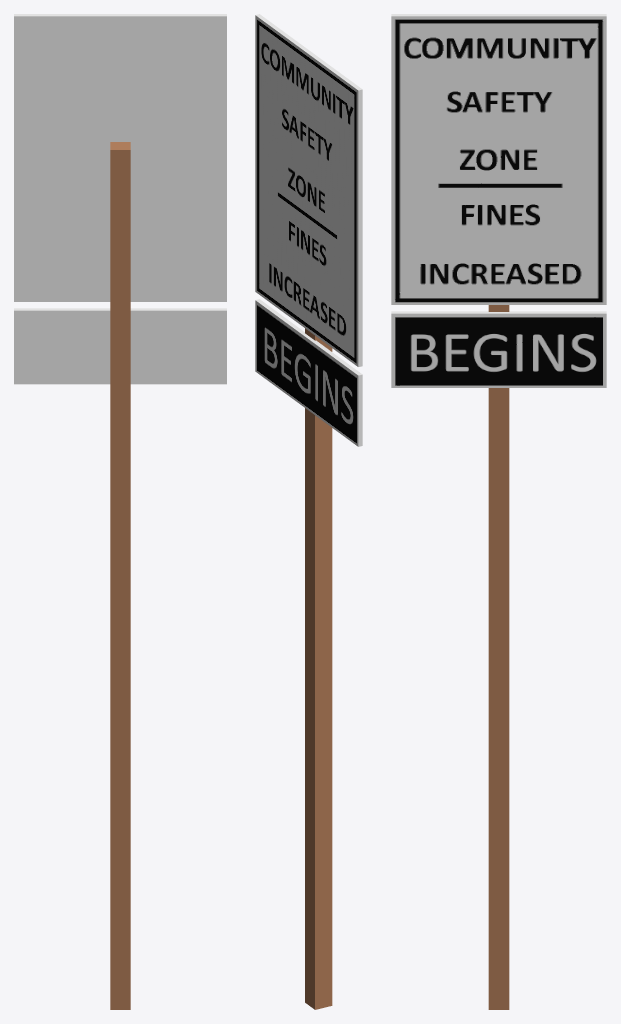
Rendered from sign15.fbx.
3 renders of one model, left to right at view 1: azimuth 90°, elevation 25°; view 2: azimuth 210°, elevation 25°; view 3: azimuth 270°, elevation 25°, orthographic. The views are drawn at different scales.
Parts seen in each view (by area): view 1: Cylinder.003_Cylinder.001; view 2: Cylinder.003_Cylinder.001; view 3: Cylinder.003_Cylinder.001.
Boxes of the visible parts, bbox=[...] form: Cylinder.003_Cylinder.001: bbox=[14, 14, 226, 1009]; Cylinder.003_Cylinder.001: bbox=[255, 14, 362, 1009]; Cylinder.003_Cylinder.001: bbox=[391, 14, 606, 1009].
Bounding box in the file's own units: 9.02 × 398 × 78.03.
